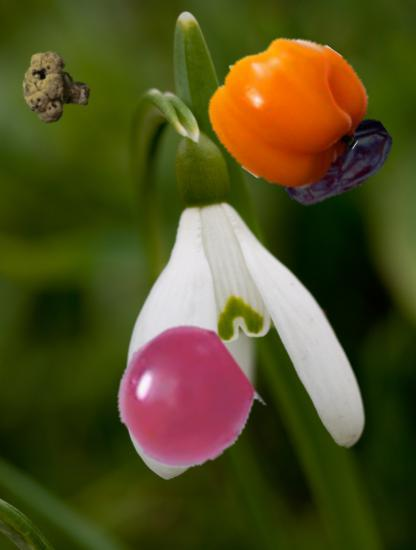Cauliflower: (19, 50, 94, 125)
Dates: (281, 107, 398, 224)
Pepper: (215, 35, 365, 185)
Redcurrant: (113, 329, 253, 469)
